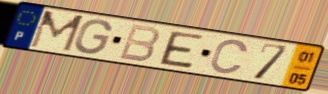7: (252, 42, 290, 82)
B: (116, 22, 162, 64)
C: (207, 38, 250, 76)
E: (158, 30, 206, 71)
G: (73, 18, 114, 56)
M: (27, 9, 87, 54)
